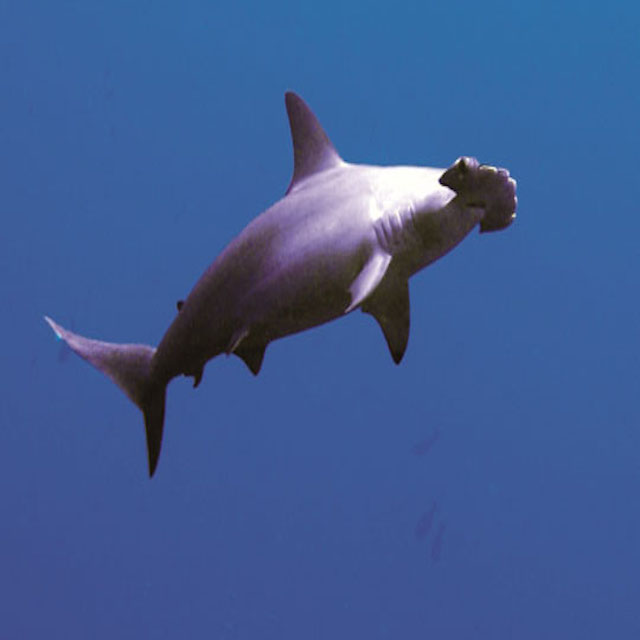hammerhead: (190, 131, 525, 349)
